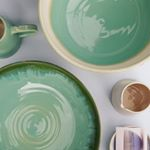cups: (1, 13, 40, 59), (109, 76, 150, 115)
